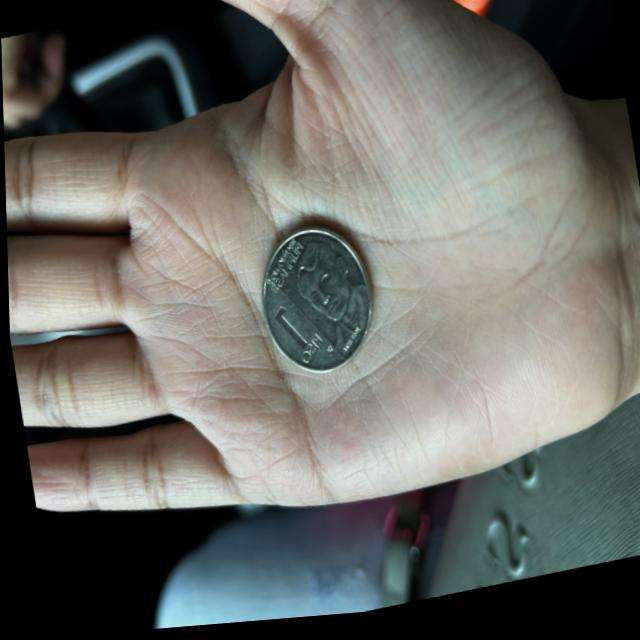1_New_Front: (265, 296, 323, 377)
